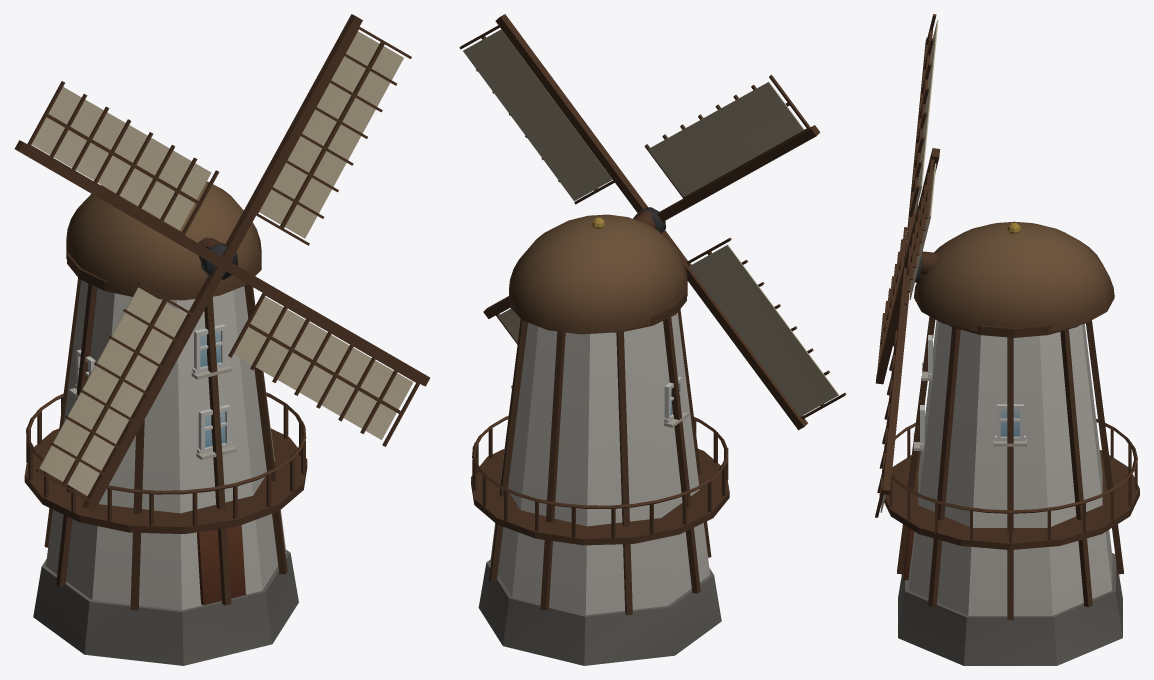
The model's file is cc_moinho_x.glb.
3 renders of one model, left to right at view 1: azimuth 30°, elevation 25°; view 2: azimuth 150°, elevation 25°; view 3: azimuth 270°, elevation 25°, orthographic. The views are drawn at different scales.
Visible parts, largest first — view 1: cc_moinho_x_lab_parede, cc_moinho_x_lab_madeira, cc_moinho_x_lab_pedra, cc_moinho_x_lab_telhado, cc_moinho_x_lab_vidro; view 2: cc_moinho_x_lab_parede, cc_moinho_x_lab_madeira, cc_moinho_x_lab_telhado, cc_moinho_x_lab_pedra; view 3: cc_moinho_x_lab_parede, cc_moinho_x_lab_madeira, cc_moinho_x_lab_telhado, cc_moinho_x_lab_pedra, cc_moinho_x_lab_vidro.
Part boxes in pixels (x1=…): cc_moinho_x_lab_parede: x1=31, y1=31, x2=413, y2=610; cc_moinho_x_lab_madeira: x1=14, y1=14, x2=429, y2=610; cc_moinho_x_lab_pedra: x1=33, y1=549, x2=298, y2=665; cc_moinho_x_lab_telhado: x1=66, y1=181, x2=261, y2=300; cc_moinho_x_lab_vidro: x1=87, y1=331, x2=225, y2=447; cc_moinho_x_lab_parede: x1=463, y1=29, x2=838, y2=614; cc_moinho_x_lab_madeira: x1=459, y1=14, x2=846, y2=615; cc_moinho_x_lab_telhado: x1=509, y1=214, x2=687, y2=334; cc_moinho_x_lab_pedra: x1=478, y1=559, x2=721, y2=665; cc_moinho_x_lab_parede: x1=880, y1=20, x2=1112, y2=615; cc_moinho_x_lab_madeira: x1=875, y1=14, x2=1139, y2=620; cc_moinho_x_lab_telhado: x1=913, y1=221, x2=1114, y2=331; cc_moinho_x_lab_pedra: x1=898, y1=553, x2=1122, y2=665; cc_moinho_x_lab_vidro: x1=924, y1=339, x2=1019, y2=437.
Size of the model in its own units: 10.8 by 15.41 by 6.85.
